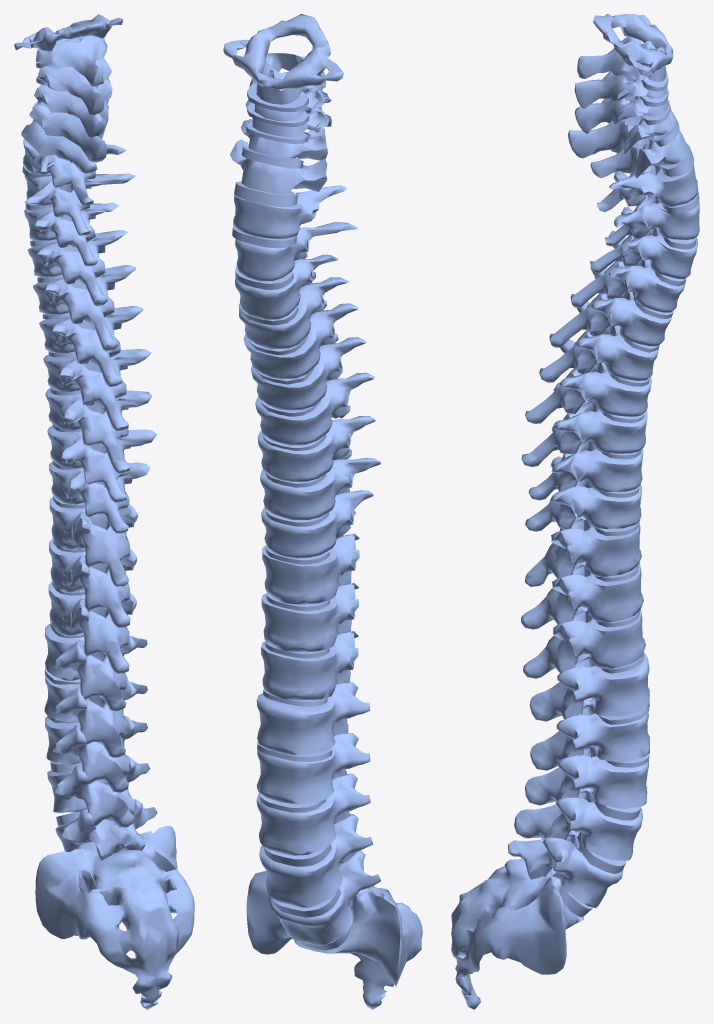
Rendered from Spine.fbx.
3 views of the same model, side by side, from view 1: azimuth 30°, elevation 25°; view 2: azimuth 150°, elevation 25°; view 3: azimuth 270°, elevation 25° (orthographic). The views are drawn at different scales.
Parts seen in each view (by area): view 1: default; view 2: default; view 3: default.
Part boxes in pixels (bbox=[...]): default: bbox=[14, 14, 194, 1009]; default: bbox=[223, 14, 422, 1009]; default: bbox=[451, 14, 699, 1009].
Size of the model in its own units: 343 by 2195 by 499.
